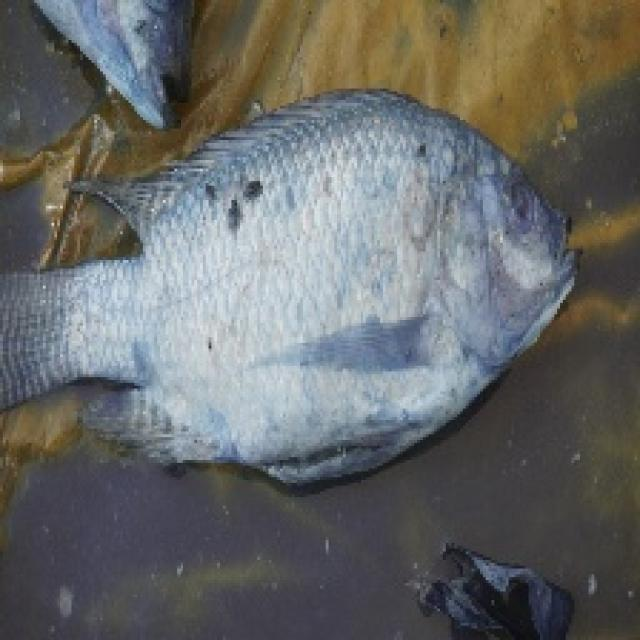Non-Fresh: (46, 108, 606, 480)
